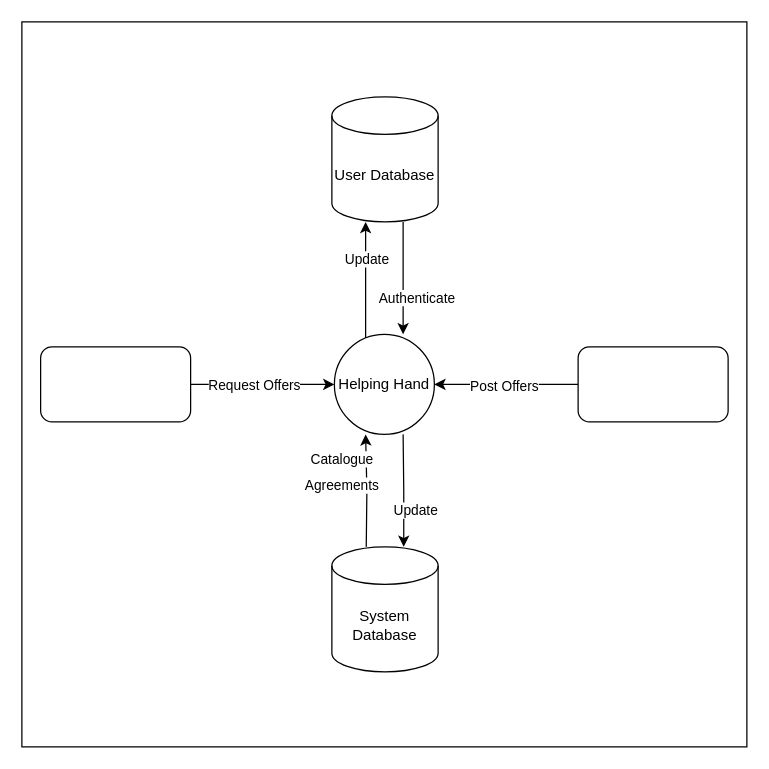
The diagram is 769 pixels wide and 769 high, and some of its shapes have lost their labels. The shapes that lost their labels are listed below. From the top down, each one's centre as x and y in pixels, then its label:
(115,384): Consumer
(652,384): Provider
